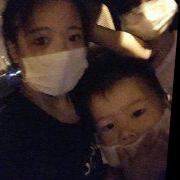OK: (18, 14, 93, 97), (117, 1, 180, 43)
WRONG: (93, 94, 166, 170)
